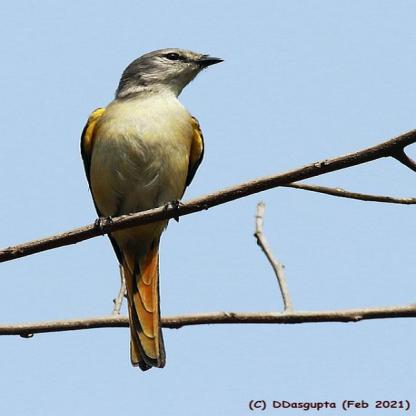Burung: (79, 48, 223, 369)
